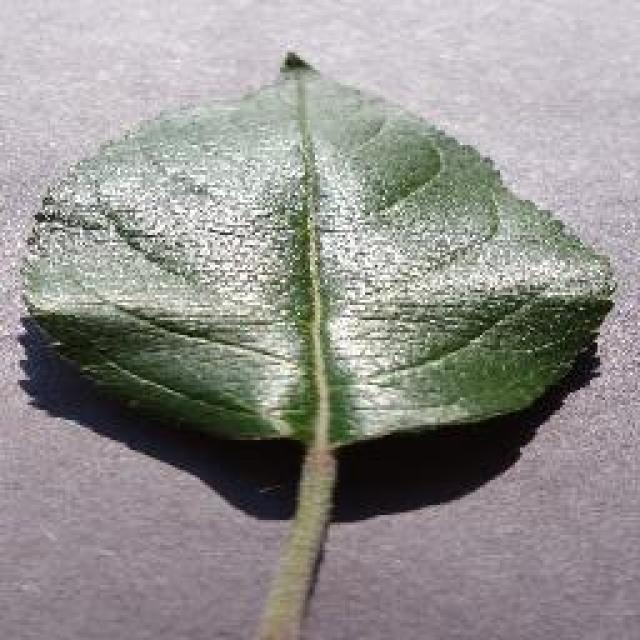Apple___healthy: (13, 44, 620, 455)
